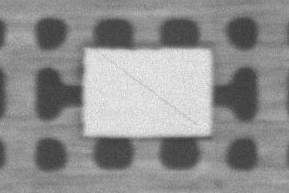DIE_CRACK: (145, 34, 289, 83)
